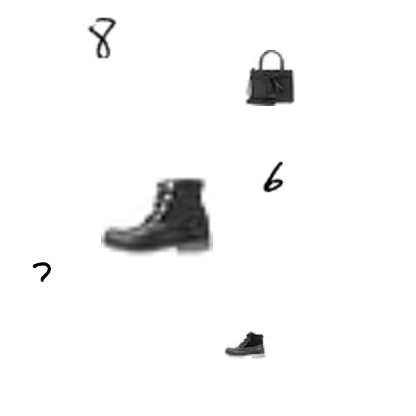6: (251, 159, 293, 201)
7: (29, 255, 57, 283)
8: (74, 8, 130, 64)
Ankle_boot: (101, 159, 213, 271), (224, 324, 266, 366)
Bag: (242, 50, 298, 106)
